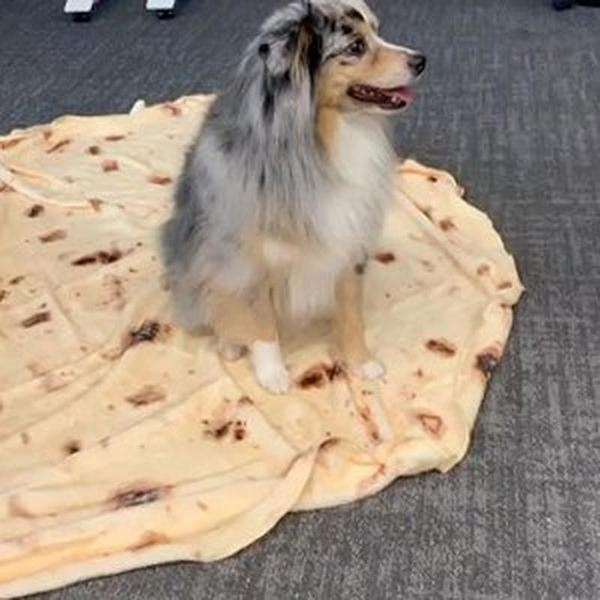allqu: (146, 3, 459, 397)
